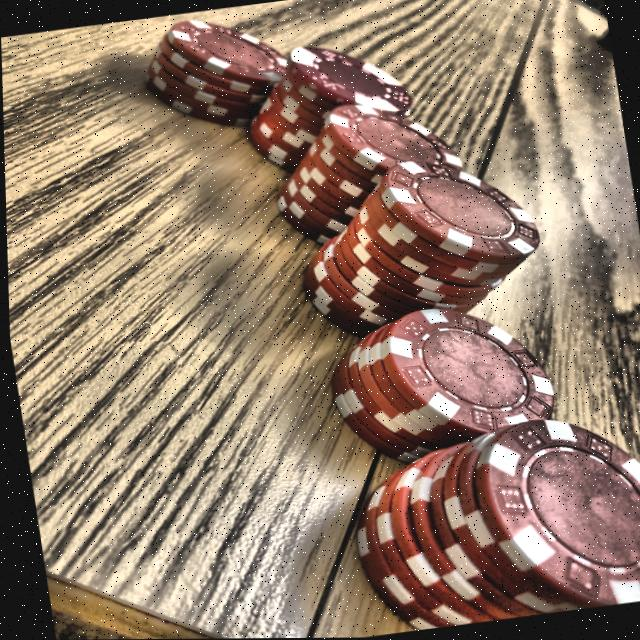Chip: (327, 404, 640, 638), (284, 130, 555, 367), (309, 282, 559, 471), (240, 76, 457, 270), (221, 26, 410, 196), (130, 4, 306, 157)
